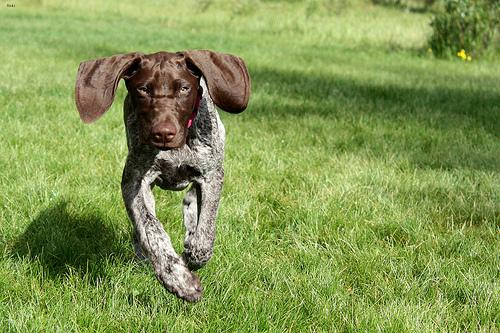dog-german_shorthaired: (73, 49, 248, 146)
